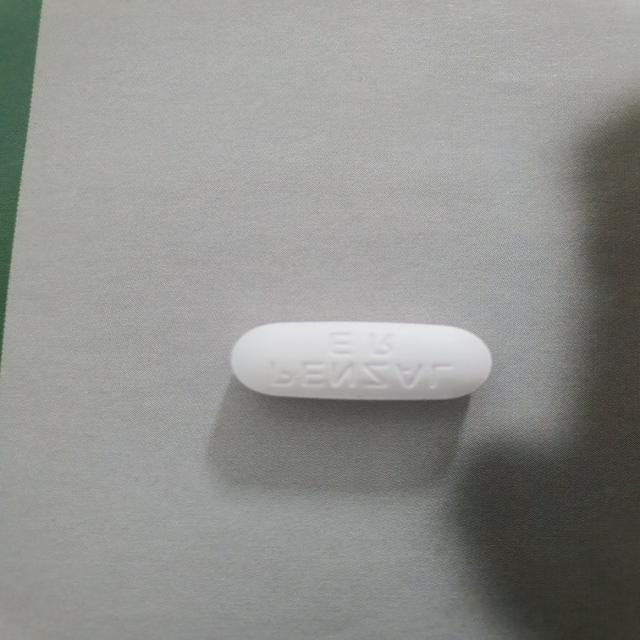pill: (226, 304, 501, 418)
